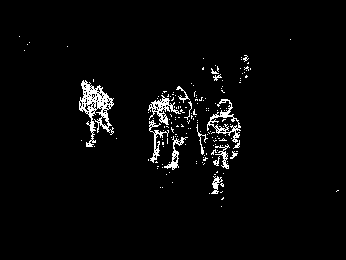person: (209, 99, 240, 195), (79, 78, 115, 149), (169, 86, 192, 171), (149, 91, 170, 162)
